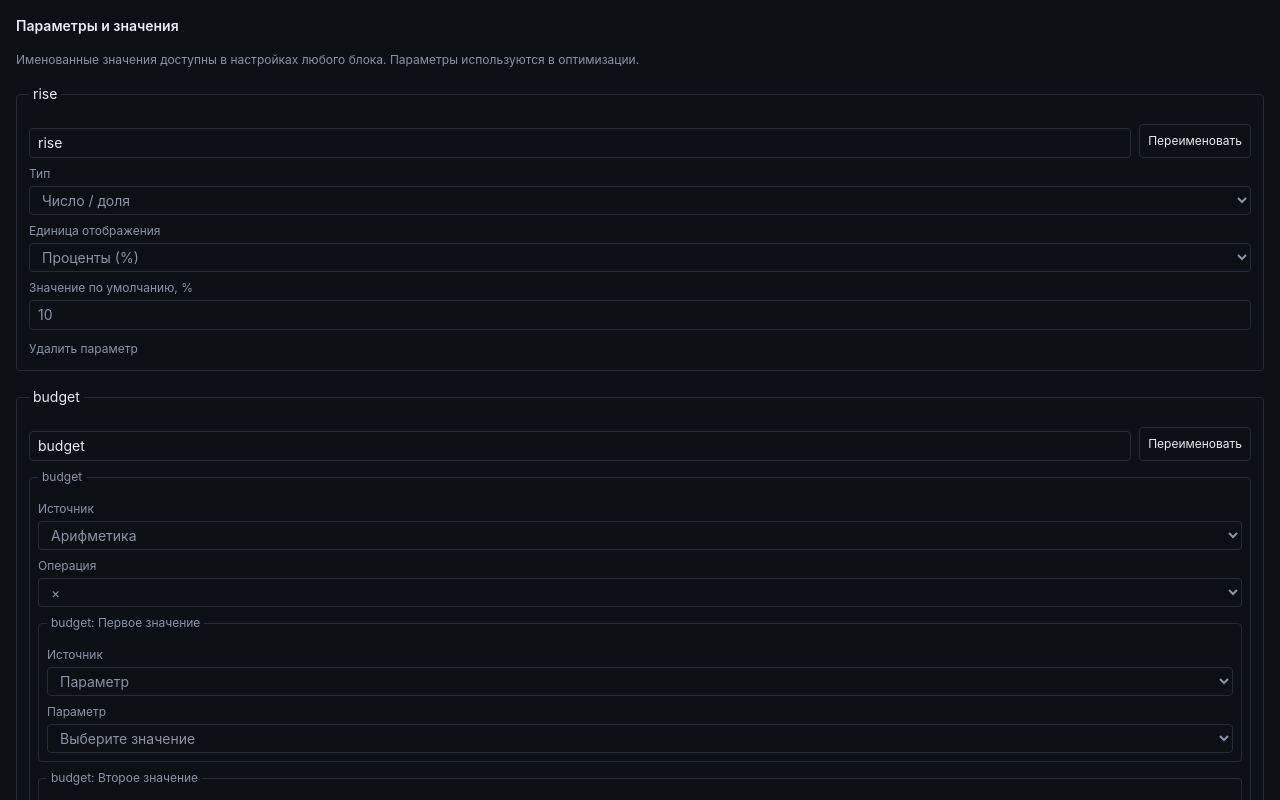
converts the human decimal draft 01 to fraction 0.01
Replace the text in the field named "Значение параметра rise, %" with "01": (640, 315) [29,300,1251,330]
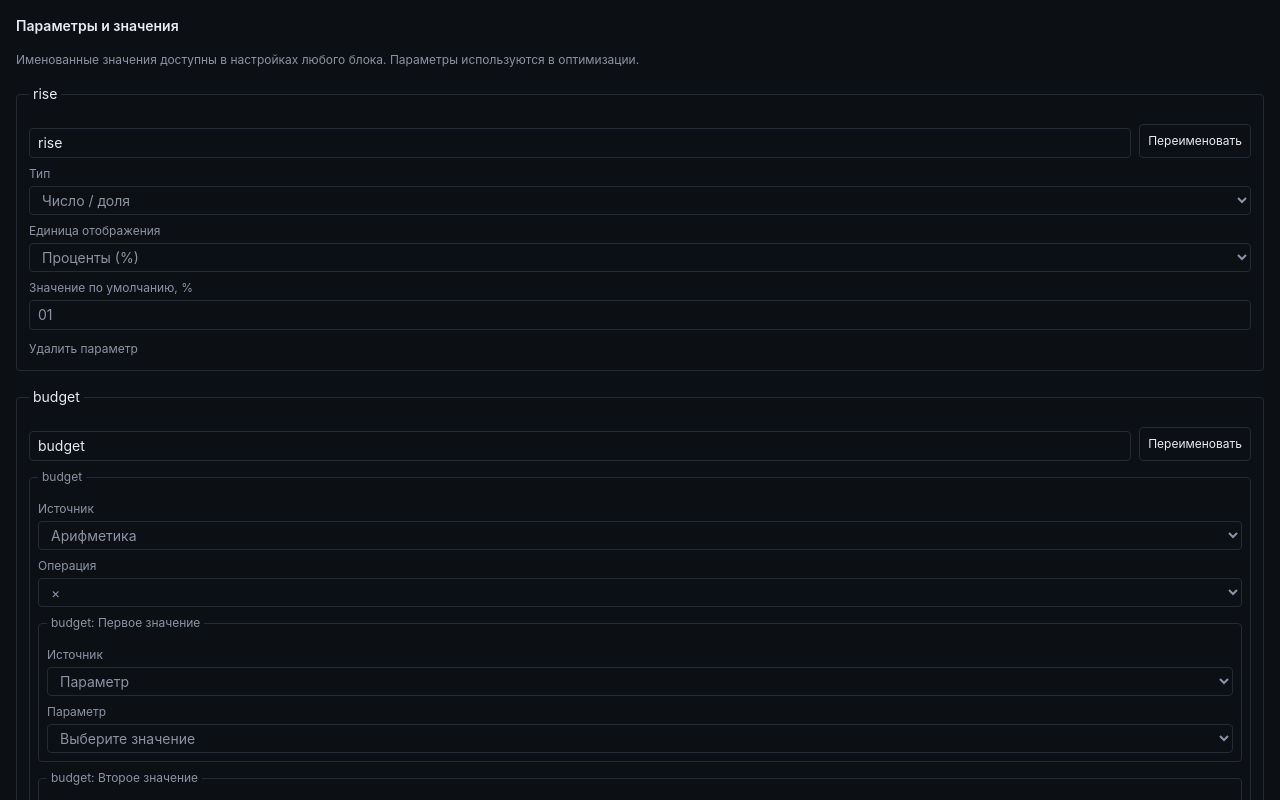
Leave the field named "Значение параметра rise, %", box [29,300,1251,330]
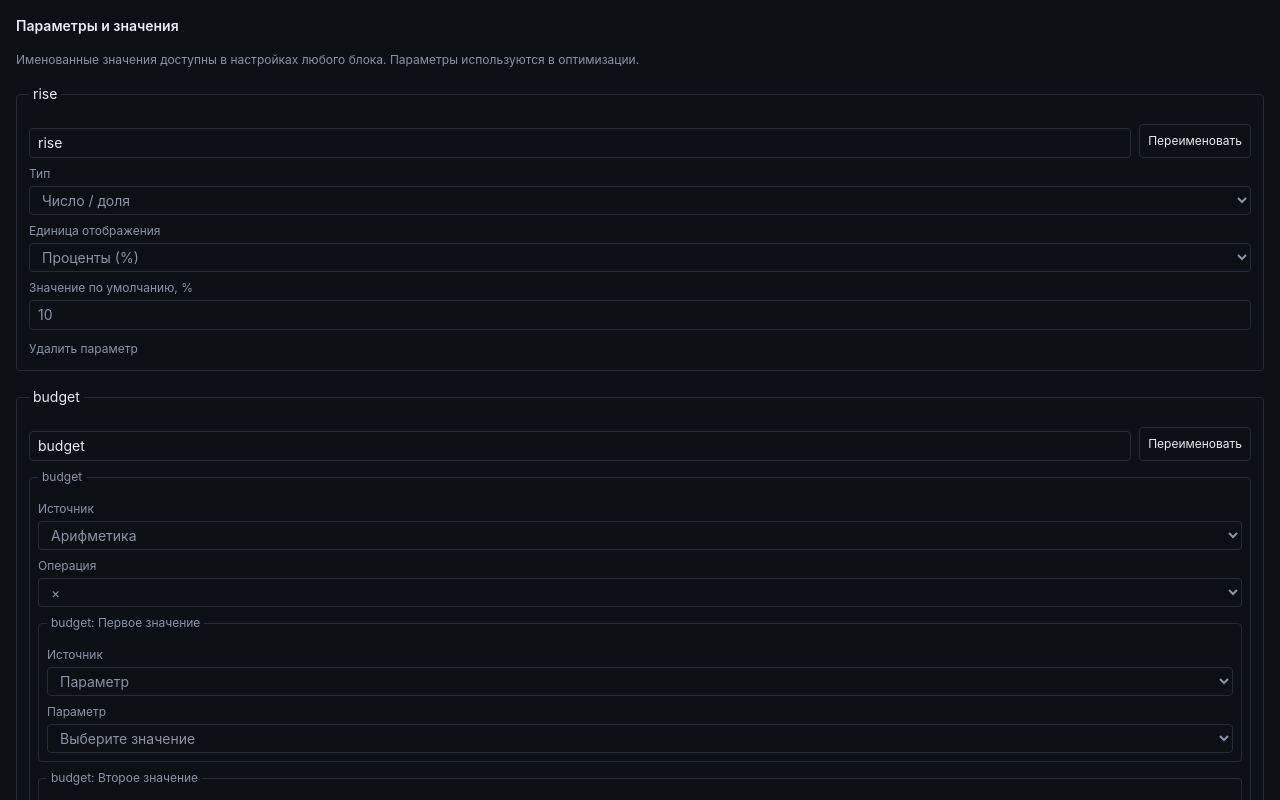
Expected: the field named "Значение параметра rise, %" holds "10", [29,300,1251,330]
